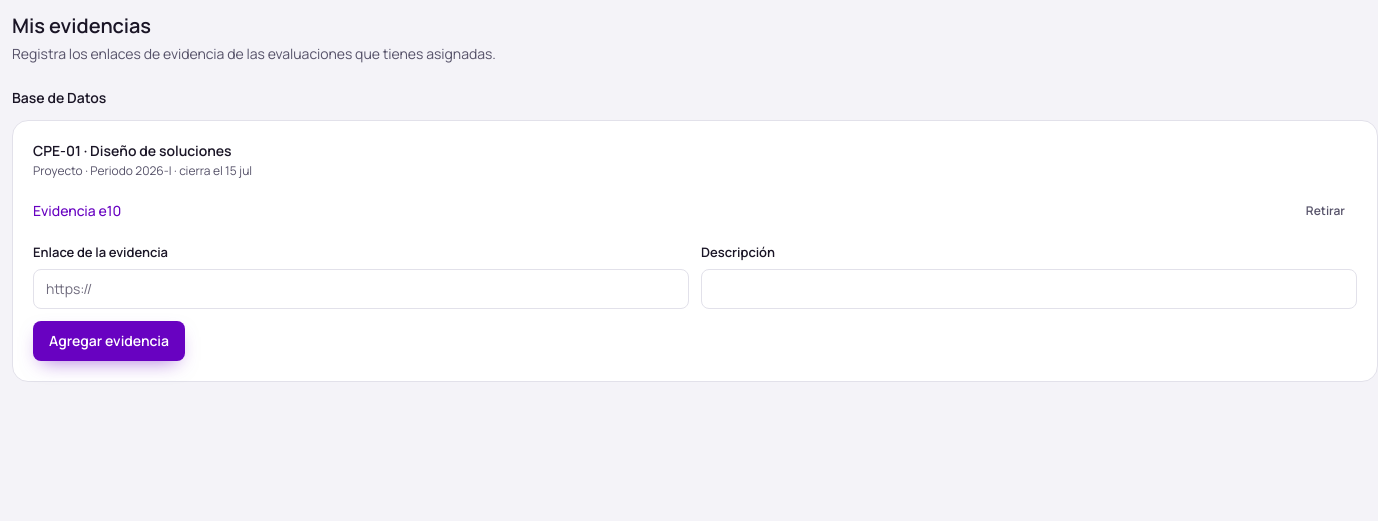
Scenario: MisEvidenciasPage › el aviso se limpia con el siguiente intento que sale bien
Click the button with aria-label "Retirar Evidencia e10". click: (1325, 211)
box: [1294,195,1357,227]
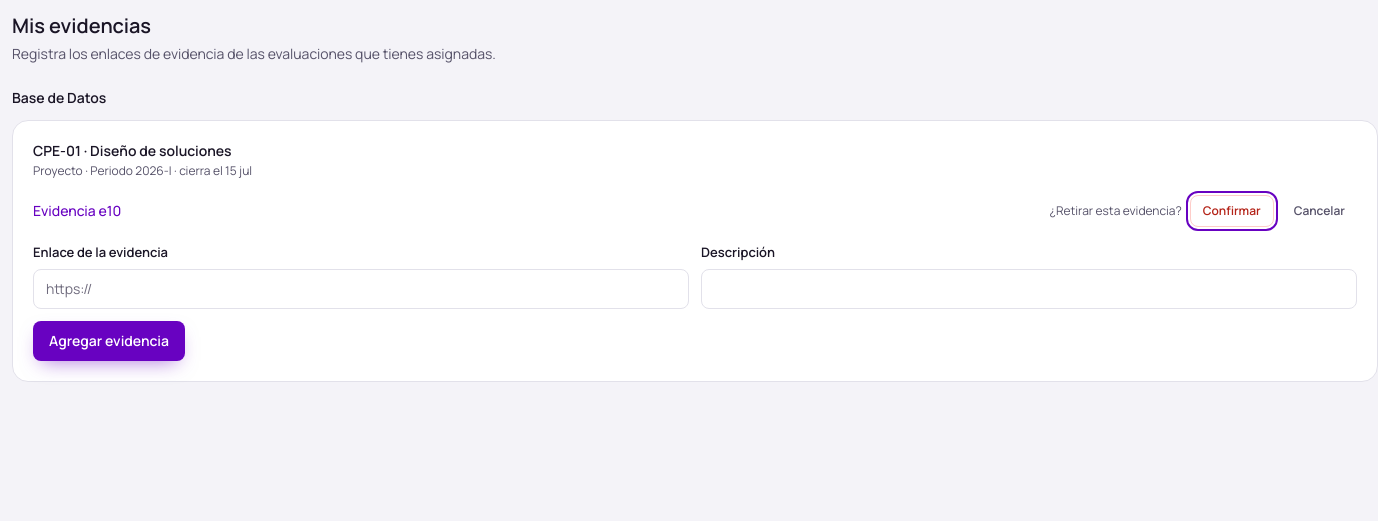
Click the button "Confirmar". click: (1232, 211)
box: [1190,195,1274,227]
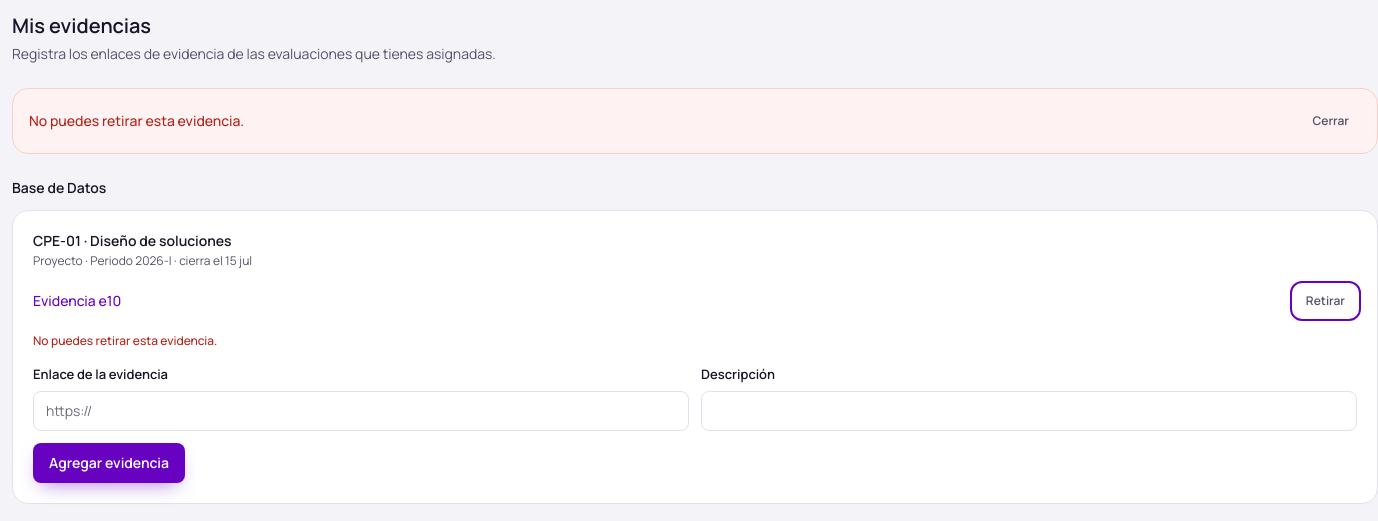
Check: the message "No puedes retirar esta evidencia. Cerrar" is shown, box [12,88,1377,154]
Click the button with aria-label "Retirar Evidencia e10". click: (1325, 301)
box: [1294,285,1357,317]
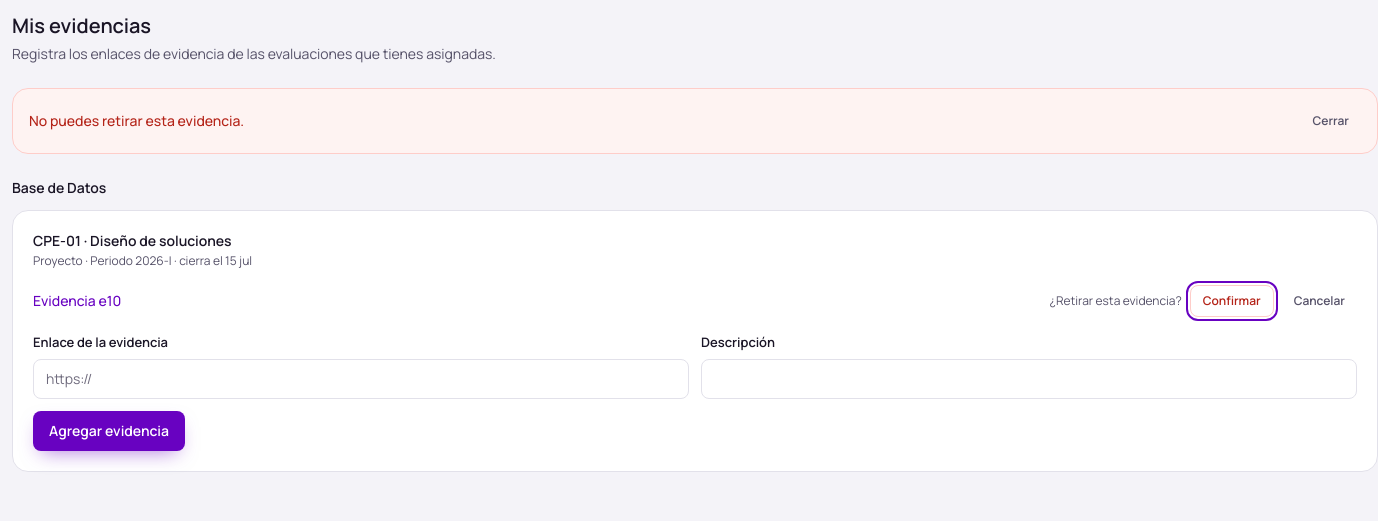
Click the button "Confirmar". click: (1232, 301)
box: [1190,285,1274,317]
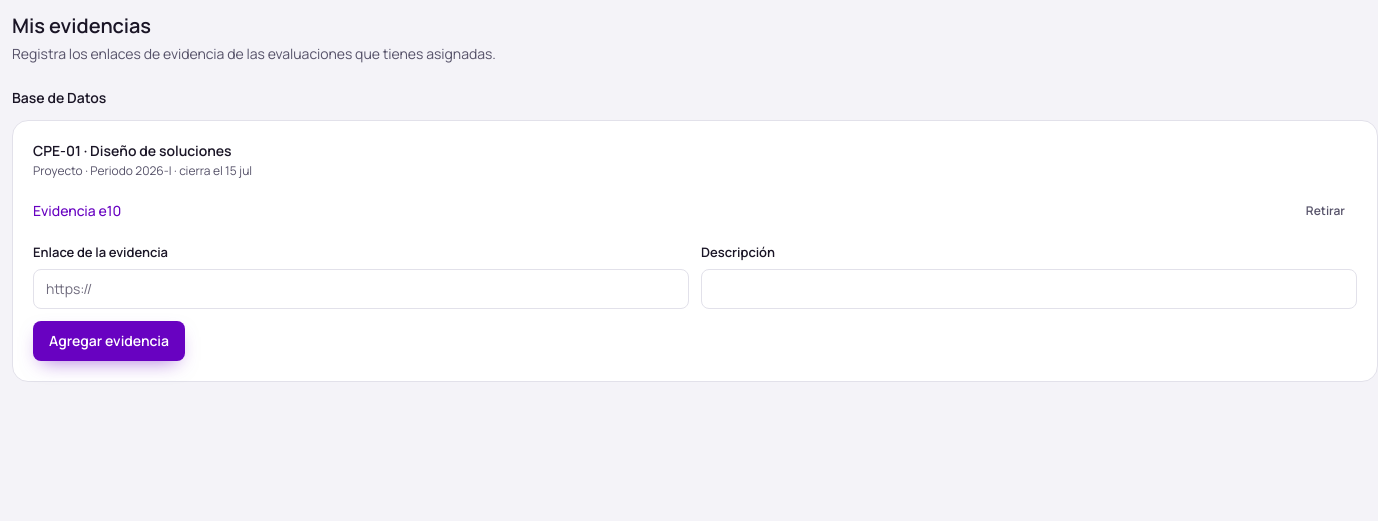
Check: the message "No puedes retirar esta evidencia. Cerrar" is gone
